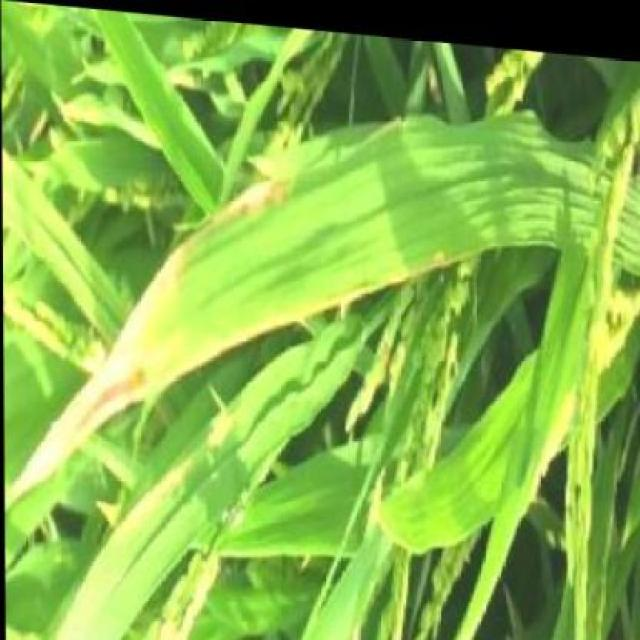Brown_Spot: (31, 158, 540, 398)
